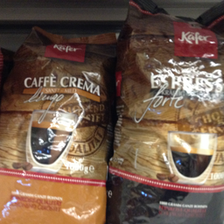coffee: (109, 5, 223, 224), (1, 26, 113, 224)
